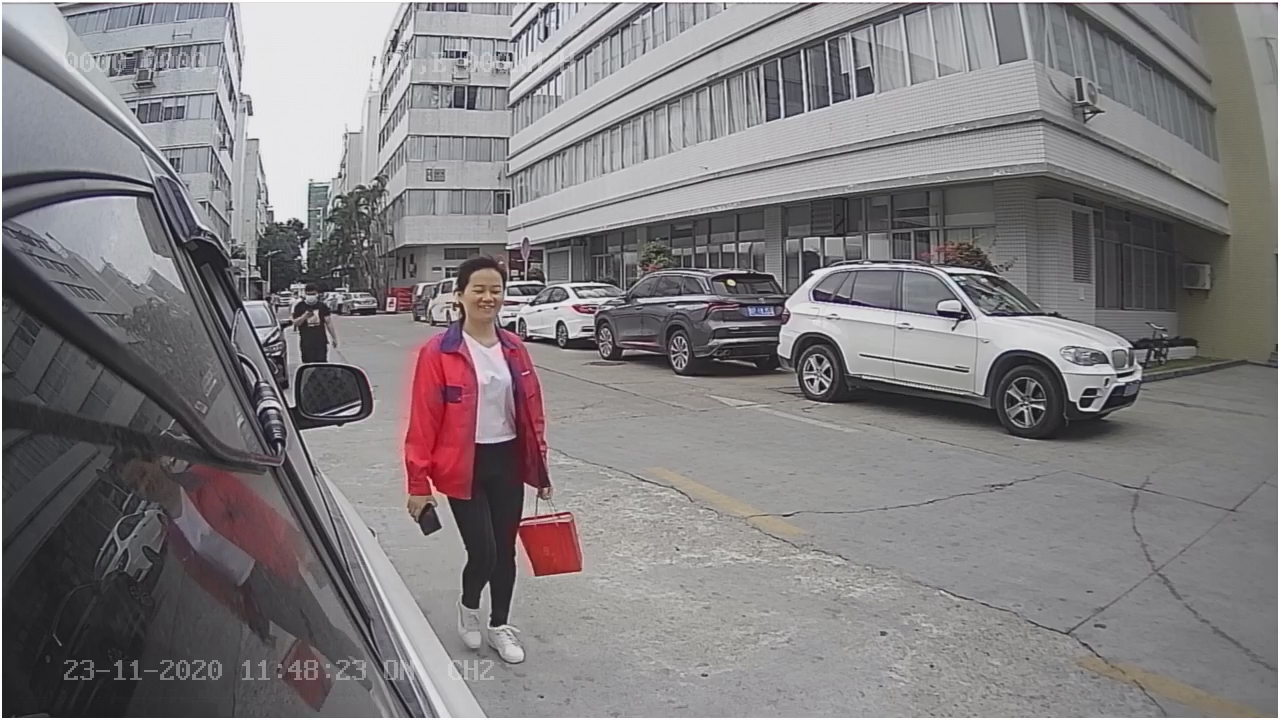person: (401, 252, 560, 540)
